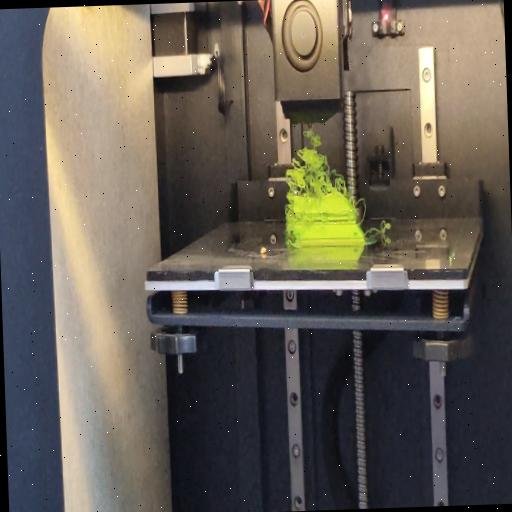spaghetti: (284, 120, 350, 198), (367, 216, 392, 236), (355, 194, 366, 226), (284, 236, 294, 248)
